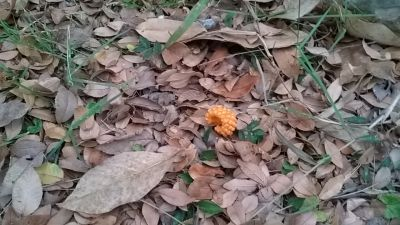eggs: (205, 105, 237, 136)
